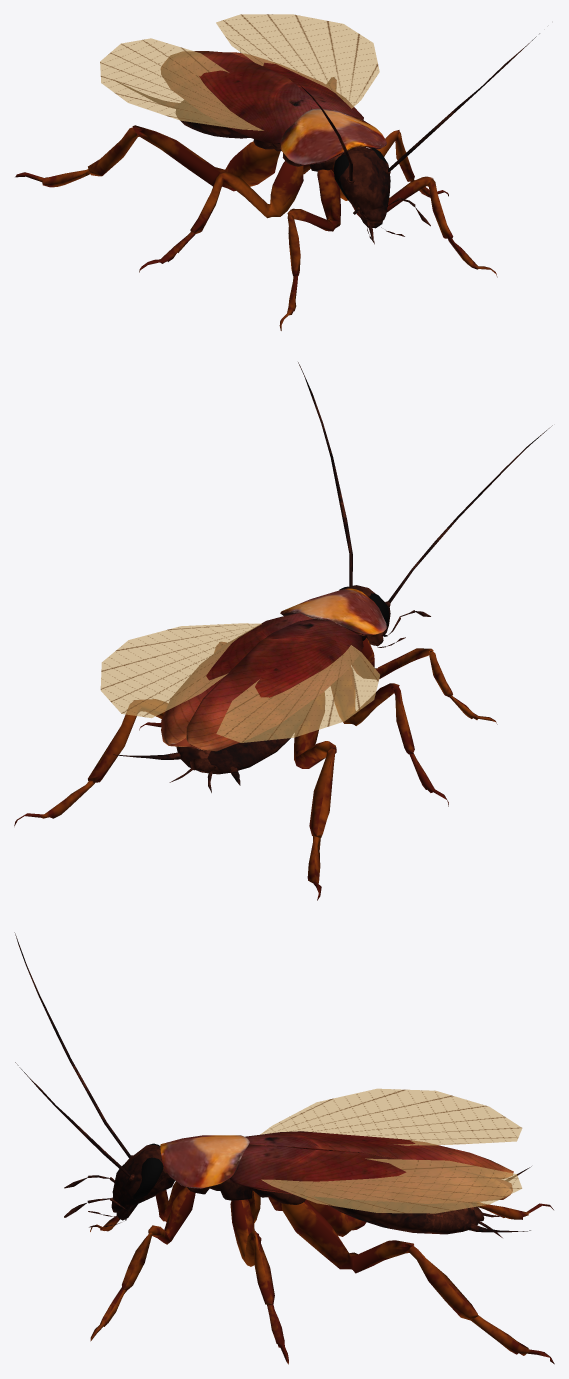
Rendered from cockroach_flight_medium.glb.
The picture shows the model from 3 angles, top to bottom: view 1: azimuth 30°, elevation 25°; view 2: azimuth 150°, elevation 25°; view 3: azimuth 270°, elevation 25°; orthographic projection. The views are drawn at different scales.
Visible parts, largest first — view 1: body, elytron_left, wing_right, wing_left, leg_left_back, leg_left_middle, leg_left_front, elytron_right, leg_right_front, leg_right_middle; view 2: elytron_left, wing_right, body, wing_left, elytron_right, leg_left_back, leg_left_middle, leg_right_back, leg_left_front; view 3: body, elytron_right, wing_left, wing_right, leg_right_back, elytron_left, leg_right_middle, leg_right_front, leg_left_back, leg_left_front.
Part boxes in pixels (box(x1,y1,x2,y2)): body: box(117, 33, 539, 244); elytron_left: box(161, 51, 311, 144); wing_right: box(216, 14, 379, 108); wing_left: box(100, 38, 263, 130); leg_left_back: box(15, 125, 280, 191); leg_left_middle: box(139, 161, 303, 272); leg_left_front: box(279, 169, 340, 330); elytron_right: box(227, 52, 363, 120); leg_right_front: box(352, 176, 497, 277); leg_right_middle: box(331, 130, 448, 200); elytron_left: box(186, 619, 363, 751); wing_right: box(100, 623, 261, 717); body: box(113, 362, 552, 792); wing_left: box(216, 645, 379, 742); elytron_right: box(161, 613, 313, 746); leg_left_back: box(294, 692, 336, 900); leg_left_middle: box(331, 666, 448, 806); leg_right_back: box(14, 699, 167, 826); leg_left_front: box(352, 638, 497, 724); body: box(14, 932, 531, 1237); elytron_right: box(229, 1145, 512, 1203); wing_left: box(260, 1088, 522, 1145); wing_right: box(261, 1158, 522, 1213); leg_right_back: box(281, 1199, 554, 1364); elytron_left: box(245, 1131, 513, 1178); leg_right_middle: box(230, 1199, 288, 1364); leg_right_front: box(90, 1187, 195, 1341); leg_left_back: box(306, 1196, 553, 1236); leg_left_front: box(90, 1181, 185, 1231).
Bounding box in the file's own units: 2.02 × 1.76 × 2.94.
Materials: 2 (2 with a texture image).
